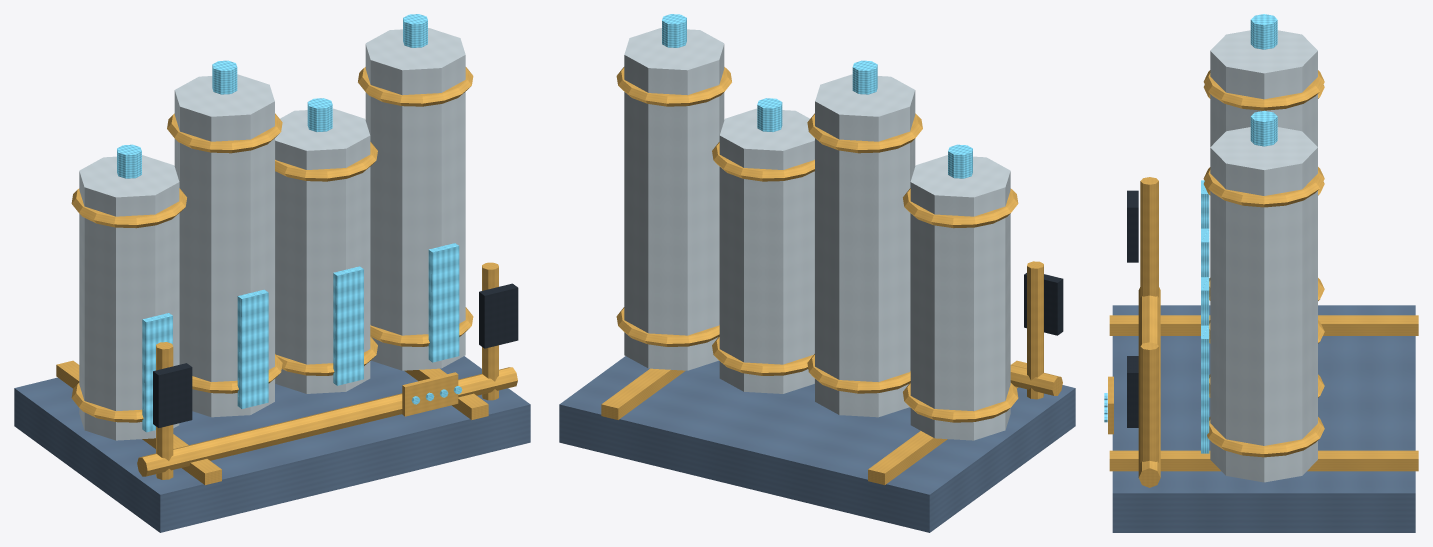
The model's file is atlas100-s052-a01.glb.
The picture shows the model from 3 angles, left to right: view 1: azimuth 30°, elevation 25°; view 2: azimuth 150°, elevation 25°; view 3: azimuth 270°, elevation 25°; orthographic projection. The views are drawn at different scales.
Visible parts, largest first — view 1: atlas100-s052-a01:part-000, atlas100-s052-a01:part-018, atlas100-s052-a01:part-008, atlas100-s052-a01:part-003, atlas100-s052-a01:part-013, atlas100-s052-a01:part-027, atlas100-s052-a01:part-022, atlas100-s052-a01:part-012, atlas100-s052-a01:part-017, atlas100-s052-a01:part-024, atlas100-s052-a01:part-026, atlas100-s052-a01:part-007 (+17 smaller); view 2: atlas100-s052-a01:part-000, atlas100-s052-a01:part-018, atlas100-s052-a01:part-008, atlas100-s052-a01:part-003, atlas100-s052-a01:part-013, atlas100-s052-a01:part-023, atlas100-s052-a01:part-001, atlas100-s052-a01:part-002, atlas100-s052-a01:part-005, atlas100-s052-a01:part-020, atlas100-s052-a01:part-004, atlas100-s052-a01:part-010 (+10 smaller); view 3: atlas100-s052-a01:part-000, atlas100-s052-a01:part-018, atlas100-s052-a01:part-008, atlas100-s052-a01:part-002, atlas100-s052-a01:part-001, atlas100-s052-a01:part-027, atlas100-s052-a01:part-023, atlas100-s052-a01:part-025, atlas100-s052-a01:part-010, atlas100-s052-a01:part-020, atlas100-s052-a01:part-019, atlas100-s052-a01:part-022 (+7 smaller).
Boxes of the visible parts, <box> form: atlas100-s052-a01:part-000: <box>14,356,530,532</box>; atlas100-s052-a01:part-018: <box>365,28,465,370</box>; atlas100-s052-a01:part-008: <box>174,74,274,417</box>; atlas100-s052-a01:part-003: <box>79,155,179,440</box>; atlas100-s052-a01:part-013: <box>275,108,370,393</box>; atlas100-s052-a01:part-027: <box>137,367,517,476</box>; atlas100-s052-a01:part-022: <box>428,243,459,362</box>; atlas100-s052-a01:part-012: <box>237,289,268,408</box>; atlas100-s052-a01:part-017: <box>333,266,363,385</box>; atlas100-s052-a01:part-024: <box>153,363,192,427</box>; atlas100-s052-a01:part-026: <box>479,283,518,348</box>; atlas100-s052-a01:part-007: <box>142,313,172,432</box>; atlas100-s052-a01:part-000: <box>559,356,1075,532</box>; atlas100-s052-a01:part-018: <box>624,28,724,370</box>; atlas100-s052-a01:part-008: <box>815,74,915,417</box>; atlas100-s052-a01:part-003: <box>910,155,1010,440</box>; atlas100-s052-a01:part-013: <box>719,108,814,393</box>; atlas100-s052-a01:part-023: <box>1027,261,1043,399</box>; atlas100-s052-a01:part-001: <box>868,360,1026,485</box>; atlas100-s052-a01:part-002: <box>601,368,685,419</box>; atlas100-s052-a01:part-005: <box>903,188,1018,228</box>; atlas100-s052-a01:part-020: <box>616,67,731,106</box>; atlas100-s052-a01:part-004: <box>903,383,1018,422</box>; atlas100-s052-a01:part-010: <box>807,113,922,153</box>; atlas100-s052-a01:part-000: <box>1112,305,1415,532</box>; atlas100-s052-a01:part-018: <box>1210,127,1317,482</box>; atlas100-s052-a01:part-008: <box>1210,30,1317,146</box>; atlas100-s052-a01:part-002: <box>1109,450,1418,471</box>; atlas100-s052-a01:part-001: <box>1109,315,1418,335</box>; atlas100-s052-a01:part-027: <box>1138,287,1160,487</box>; atlas100-s052-a01:part-023: <box>1140,177,1158,297</box>; atlas100-s052-a01:part-025: <box>1140,342,1158,462</box>; atlas100-s052-a01:part-010: <box>1203,70,1324,110</box>; atlas100-s052-a01:part-020: <box>1203,167,1324,207</box>; atlas100-s052-a01:part-019: <box>1207,417,1324,457</box>; atlas100-s052-a01:part-022: <box>1201,325,1209,453</box>.
Bounding box in the file's own units: 2.76 × 2.59 × 1.87.
5 materials, 5 textured.
